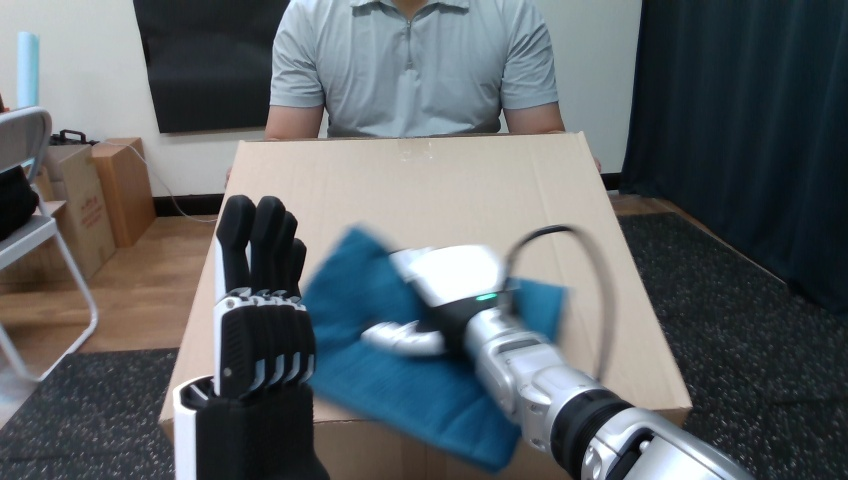left robot hand: (361, 225, 751, 479), (172, 195, 328, 479), (509, 231, 602, 377)
